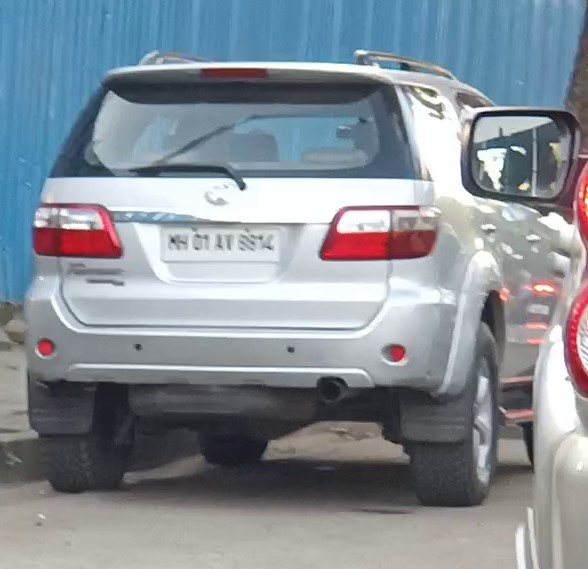MH01AV8814: (162, 226, 284, 262)
